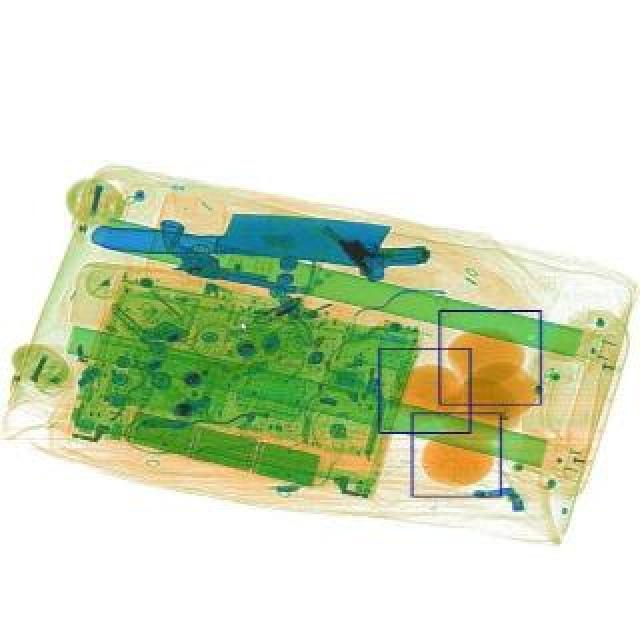gun: (148, 216, 304, 298), (320, 190, 434, 296)
knife: (88, 200, 390, 274)
